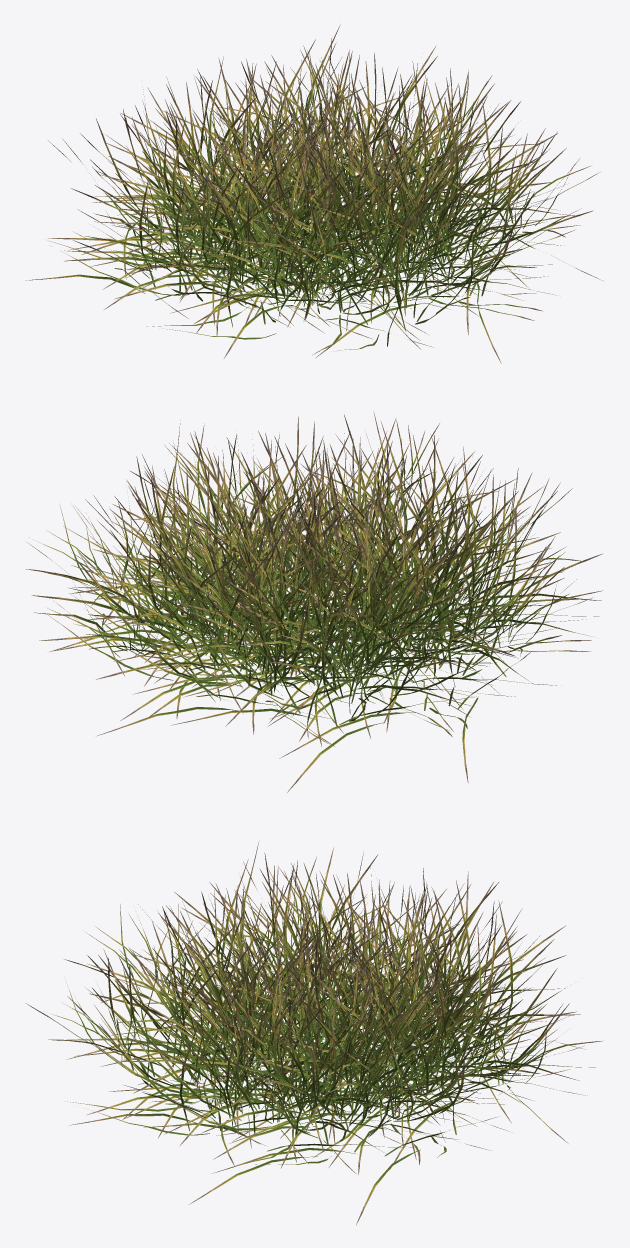
File: realistics_grass_06.glb
3 views of the same model, one above another, from view 1: azimuth 30°, elevation 25°; view 2: azimuth 150°, elevation 25°; view 3: azimuth 270°, elevation 25° (orthographic). The views are drawn at different scales.
Visible parts, largest first — view 1: Object_2; view 2: Object_2; view 3: Object_2.
Part boxes in pixels (left/top/right/bottom): Object_2: left=25, top=24, right=602, bottom=363; Object_2: left=26, top=411, right=602, bottom=792; Object_2: left=25, top=842, right=603, bottom=1225.
Size of the model in its own units: 42.51 by 15.1 by 42.5.
1 material, 1 textured.
